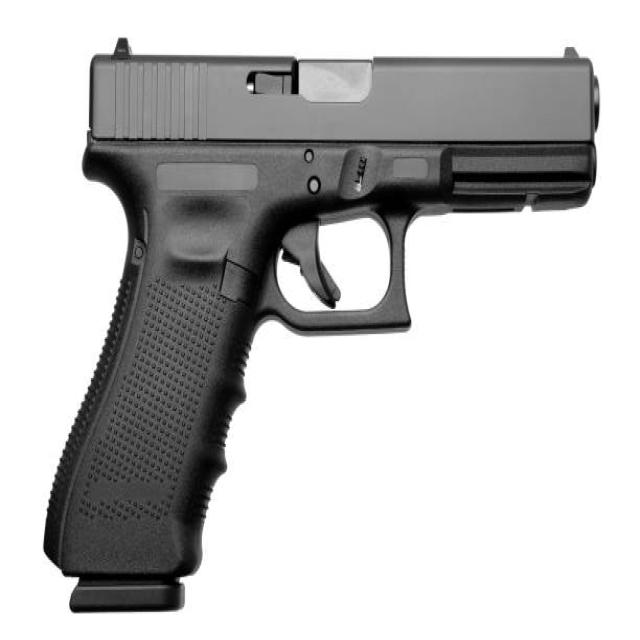pistol: (34, 21, 609, 625)
